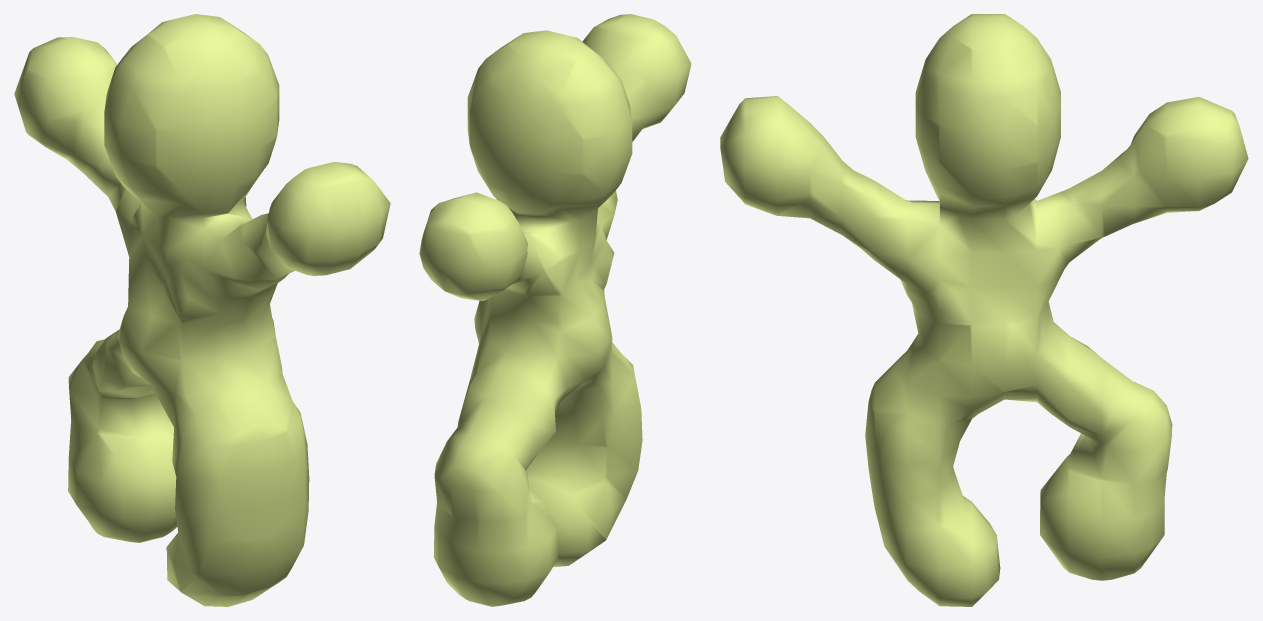
The model's file is Nacre-noid 1.fbx.
The picture shows the model from 3 angles, left to right: view 1: azimuth 30°, elevation 25°; view 2: azimuth 150°, elevation 25°; view 3: azimuth 270°, elevation 25°; orthographic projection. The views are drawn at different scales.
Visible parts, largest first — view 1: Noid1; view 2: Noid1; view 3: Noid1.
Boxes of the visible parts, bbox=[...] form: Noid1: bbox=[14, 14, 390, 606]; Noid1: bbox=[419, 14, 691, 606]; Noid1: bbox=[720, 14, 1248, 606].
Bounding box in the file's own units: 713 × 2411 × 2034.
